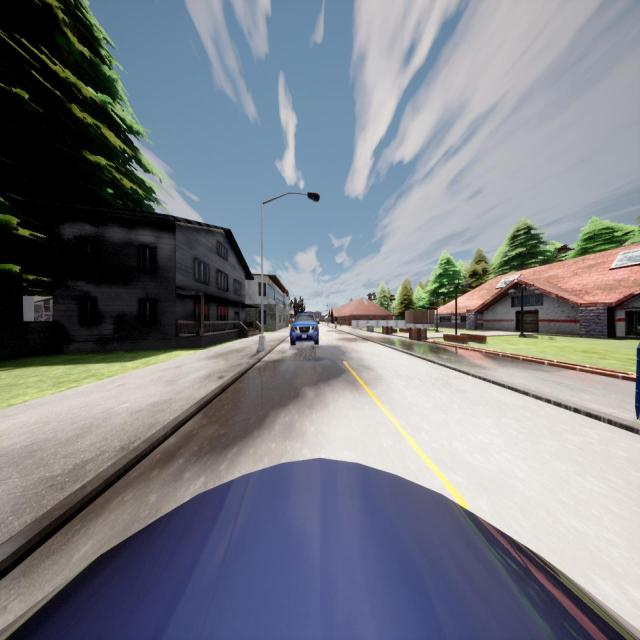Vehicle: (0, 458, 640, 640), (290, 312, 318, 345)
